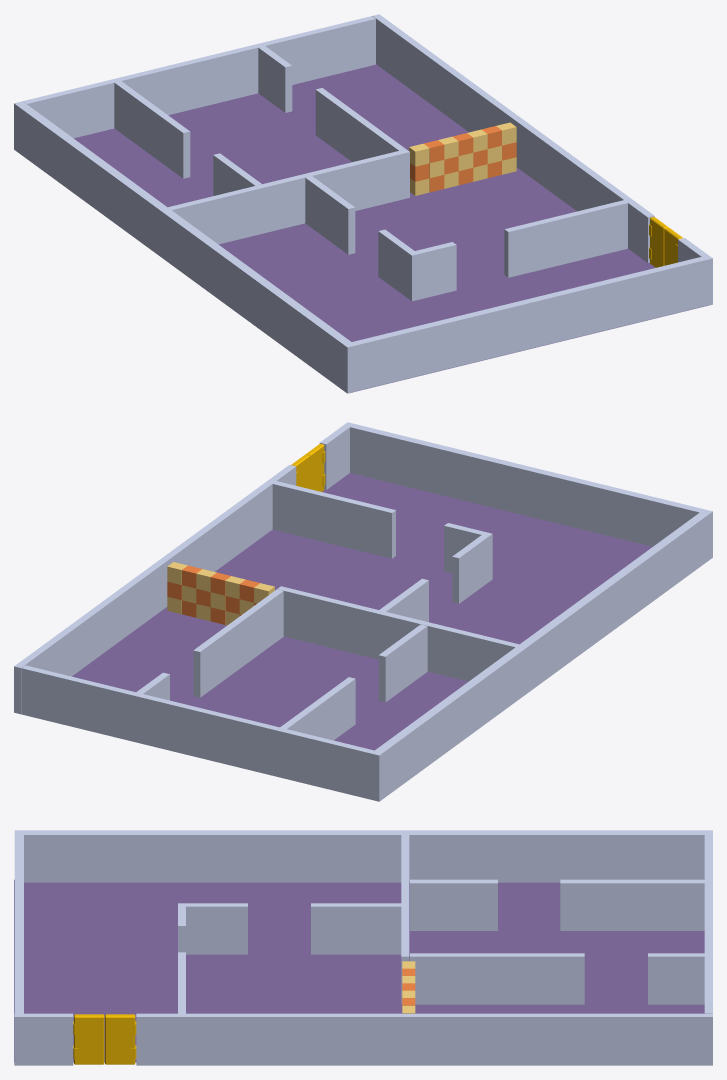
Rendered from maps58.fbx.
The picture shows the model from 3 angles, top to bottom: view 1: azimuth 30°, elevation 25°; view 2: azimuth 150°, elevation 25°; view 3: azimuth 270°, elevation 25°; orthographic projection. The views are drawn at different scales.
Parts seen in each view (by area): view 1: wall_01_08_geo, wall_01_07_geo, wall_01_05_geo1, wall_01_09_geo19, wall_01_06_geo1, wall_01_09_geo23, wall_01_09_geo32, wall_01_09_geo26, wall_01_09_geo29, wall_01_09_geo31, wall_01_09_geo25, wall_01_09_geo28 (+4 smaller); view 2: wall_01_08_geo, wall_01_07_geo, wall_01_09_geo19, wall_01_05_geo1, wall_01_06_geo1, wall_01_09_geo23, wall_01_09_geo32, wall_01_09_geo29, wall_01_09_geo26, wall_01_09_geo27, wall_01_09_geo30, wall_01_06_geo2 (+3 smaller); view 3: wall_01_08_geo, wall_01_07_geo, wall_01_06_geo1, wall_01_09_geo29, wall_01_09_geo26, wall_01_09_geo31, wall_01_09_geo27, wall_01_09_geo30, wall_01_06_geo2, wall_01_09_geo28, wall_01_05_geo1, wall_01_09_geo19 (+5 smaller).
Boxes of the visible parts, x1,y1,x2,y2 form: wall_01_08_geo: (74, 64, 706, 392); wall_01_07_geo: (14, 101, 356, 393); wall_01_05_geo1: (352, 257, 705, 391); wall_01_09_geo19: (23, 16, 375, 138); wall_01_06_geo1: (372, 14, 654, 262); wall_01_09_geo23: (168, 149, 409, 244); wall_01_09_geo32: (504, 200, 627, 277); wall_01_09_geo26: (114, 81, 190, 178); wall_01_09_geo29: (315, 88, 405, 161); wall_01_09_geo31: (305, 176, 355, 254); wall_01_09_geo25: (408, 242, 456, 301); wall_01_09_geo28: (258, 46, 292, 112); wall_01_08_geo: (72, 473, 652, 750); wall_01_07_geo: (370, 509, 712, 801); wall_01_09_geo19: (21, 665, 374, 799); wall_01_05_geo1: (350, 424, 703, 546); wall_01_06_geo1: (14, 465, 296, 714); wall_01_09_geo23: (277, 586, 519, 681); wall_01_09_geo32: (272, 481, 395, 558); wall_01_09_geo29: (193, 589, 283, 697); wall_01_09_geo26: (280, 677, 355, 740); wall_01_09_geo27: (378, 624, 427, 702); wall_01_09_geo30: (452, 535, 488, 603); wall_01_06_geo2: (319, 422, 353, 489); wall_01_08_geo: (14, 879, 704, 1062); wall_01_07_geo: (14, 830, 712, 882); wall_01_06_geo1: (136, 1013, 712, 1065); wall_01_09_geo29: (410, 953, 584, 1004); wall_01_09_geo26: (560, 879, 704, 930); wall_01_09_geo31: (311, 903, 401, 954); wall_01_09_geo27: (410, 879, 497, 930); wall_01_09_geo30: (186, 903, 247, 954); wall_01_06_geo2: (14, 1013, 73, 1065); wall_01_09_geo28: (648, 953, 704, 1004); wall_01_05_geo1: (14, 835, 23, 1013); wall_01_09_geo19: (704, 835, 712, 1013).
Size of the model in its own units: 73.35 by 8.96 by 116.
3 materials, 3 textured.
